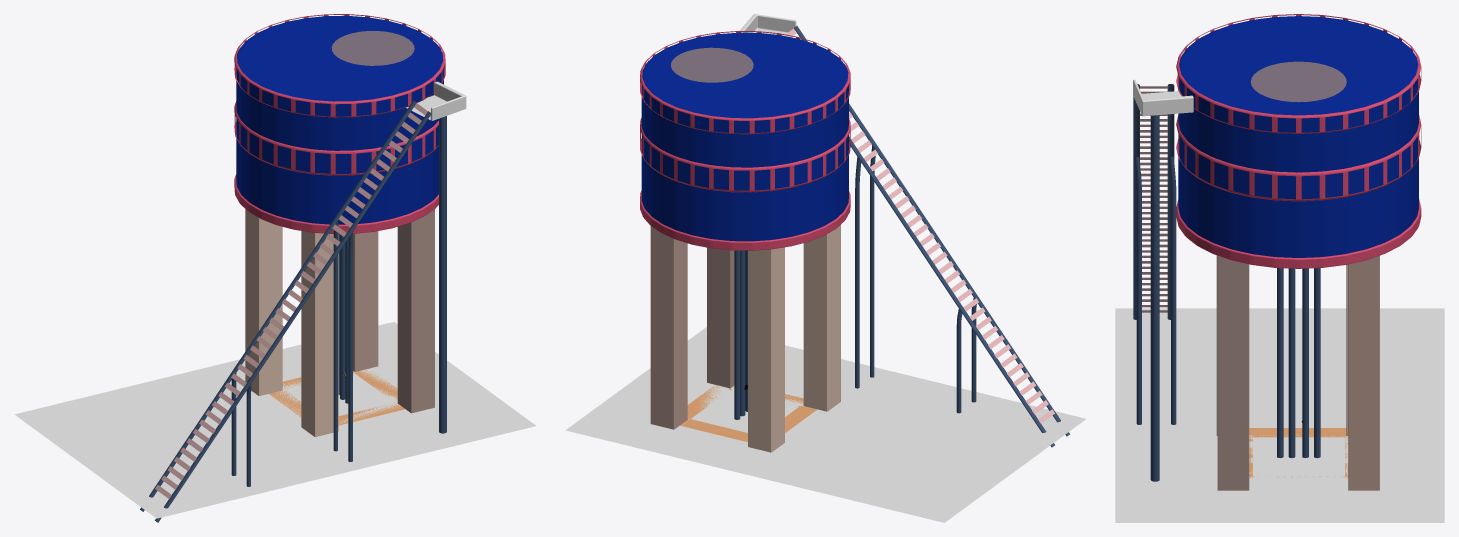
File: Tank.glb
3 views of the same model, side by side, from view 1: azimuth 30°, elevation 25°; view 2: azimuth 150°, elevation 25°; view 3: azimuth 270°, elevation 25° (orthographic). The views are drawn at different scales.
Visible parts, largest first — view 1: Plane.004, Cylinder, Cube.002, Cube.004, Cube.001, Plane, Cube.005, NurbsPath.006, NurbsPath.004, NurbsPath.005, Plane.003, Plane.005 (+4 smaller); view 2: Cylinder, Plane.004, Cube.001, Cube.005, Cube.004, Cube.002, Plane, NurbsPath.005, Plane.003, NurbsPath.004, NurbsPath, NurbsPath.007 (+4 smaller); view 3: Cylinder, Plane.004, Cube.002, Cube.005, NurbsPath.006, Plane, NurbsPath.008, NurbsPath.007, NurbsPath.002, NurbsPath, NurbsPath.001, NurbsPath.003 (+5 smaller).
Part boxes in pixels (x1,y1,x2,y2): Plane.004: (14,322,535,518); Cylinder: (234,14,445,233); Cube.002: (397,209,434,413); Cube.004: (301,231,338,436); Cube.001: (245,209,282,395); Plane: (155,103,427,498); Cube.005: (353,231,378,371); NurbsPath.006: (439,116,446,433); NurbsPath.004: (155,111,431,522); NurbsPath.005: (140,100,416,511); Plane.003: (269,369,405,425); Plane.005: (406,81,466,120); Cylinder: (640,31,850,250); Plane.004: (565,327,1085,522); Cube.001: (748,247,784,452); Cube.005: (650,226,687,429); Cube.004: (803,225,840,411); Cube.002: (707,247,734,388); Plane: (784,28,1054,423); NurbsPath.005: (849,137,1054,447); Plane.003: (680,385,817,442); NurbsPath.004: (794,26,1069,436); NurbsPath: (734,250,740,419); NurbsPath.007: (855,157,861,388); Cylinder: (1176,14,1421,268); Plane.004: (1115,308,1444,522); Cube.002: (1217,256,1249,490); Cube.005: (1348,255,1379,490); NurbsPath.006: (1150,115,1159,481); Plane: (1138,86,1170,312); NurbsPath.008: (1134,156,1141,424); NurbsPath.007: (1168,156,1176,424); NurbsPath.002: (1288,268,1295,457); NurbsPath: (1314,268,1320,458); NurbsPath.001: (1302,268,1308,457); NurbsPath.003: (1277,268,1283,457).
Bounding box in the file's own units: 24.15 × 21.76 × 15.68.
